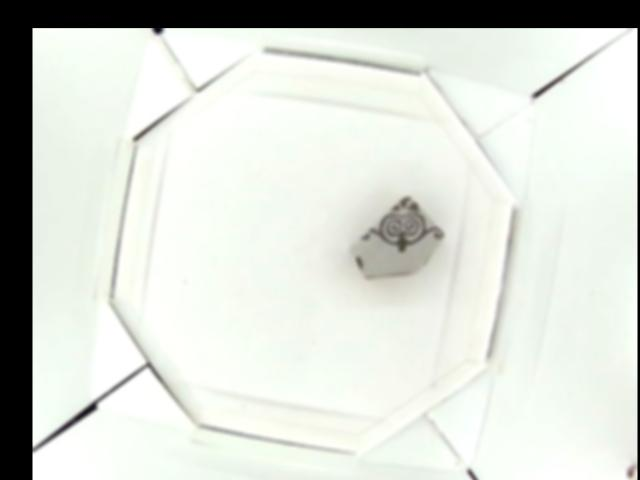China: (352, 197, 441, 285)
